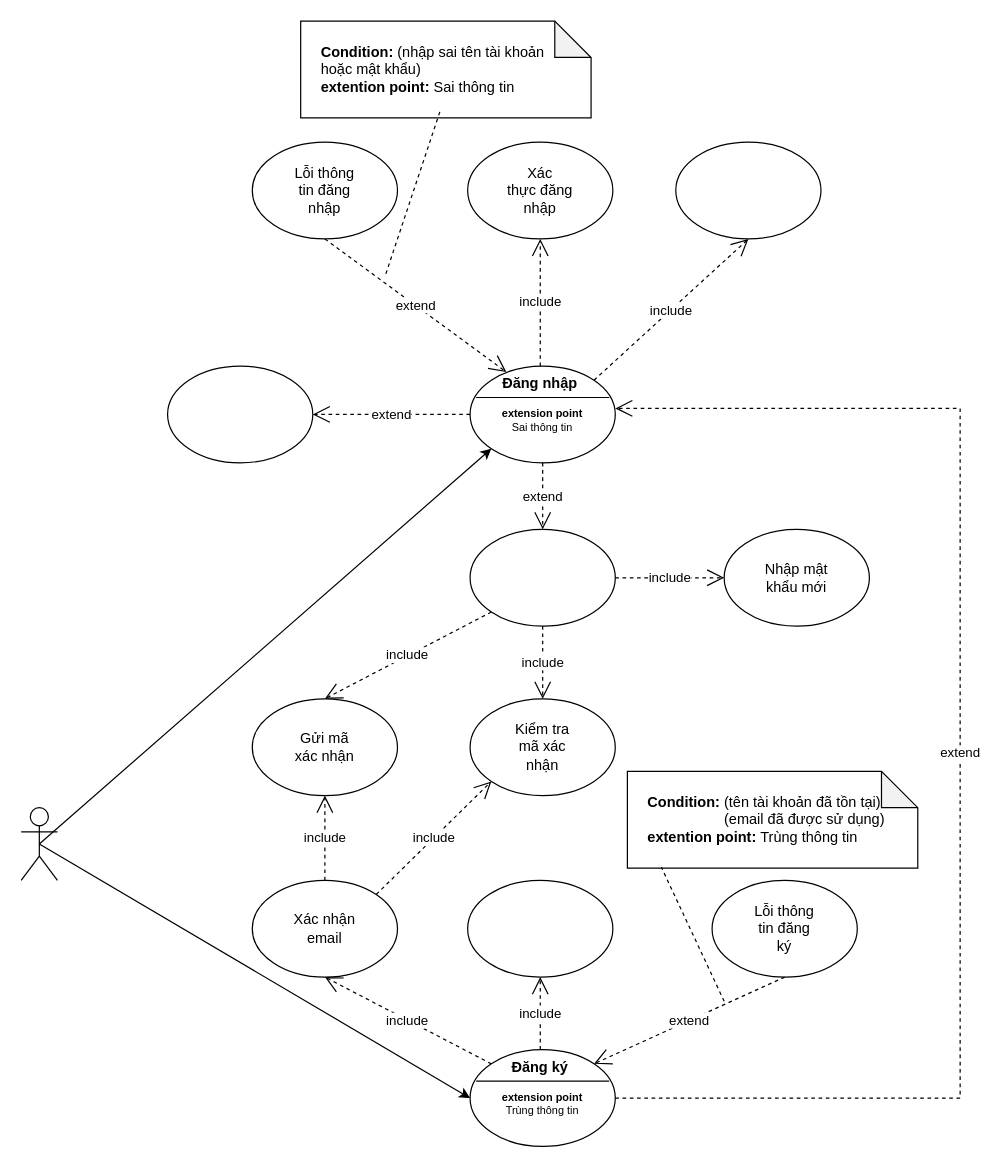
The diagram is 1001 pixels wide and 1168 high, and some of its shapes have lost their labels. Each missing label, with the box of its shape:
Actor: (20, 806, 57, 880)
Nhập thông tin tài khoản: (466, 879, 613, 977)
Nhập thông tin đăng nhập: (675, 141, 821, 239)
Quên mật khẩu: (469, 528, 615, 626)
Sử dụng tài khoản khách: (166, 365, 313, 463)
